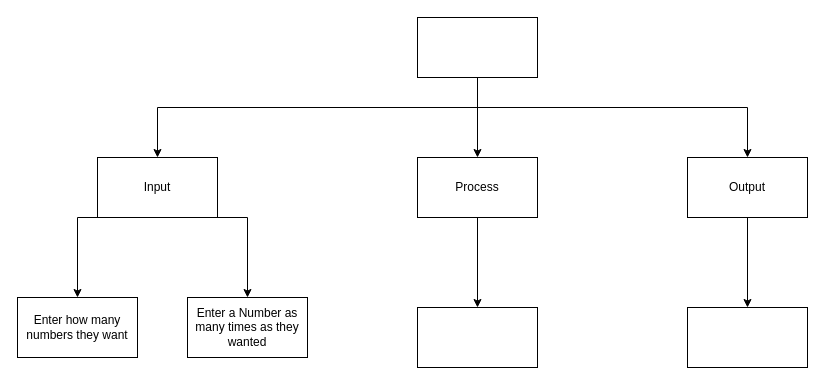
Some shapes in this 825 by 385 pixel diagram are drawn without their labels. The box of each missing label's shape, as (x1, y1, x2, y2) in pixels:
Add all numbers together that are positive: (416, 306, 538, 368)
Positive Program: (416, 16, 538, 78)
Show Answer: (686, 306, 808, 368)
